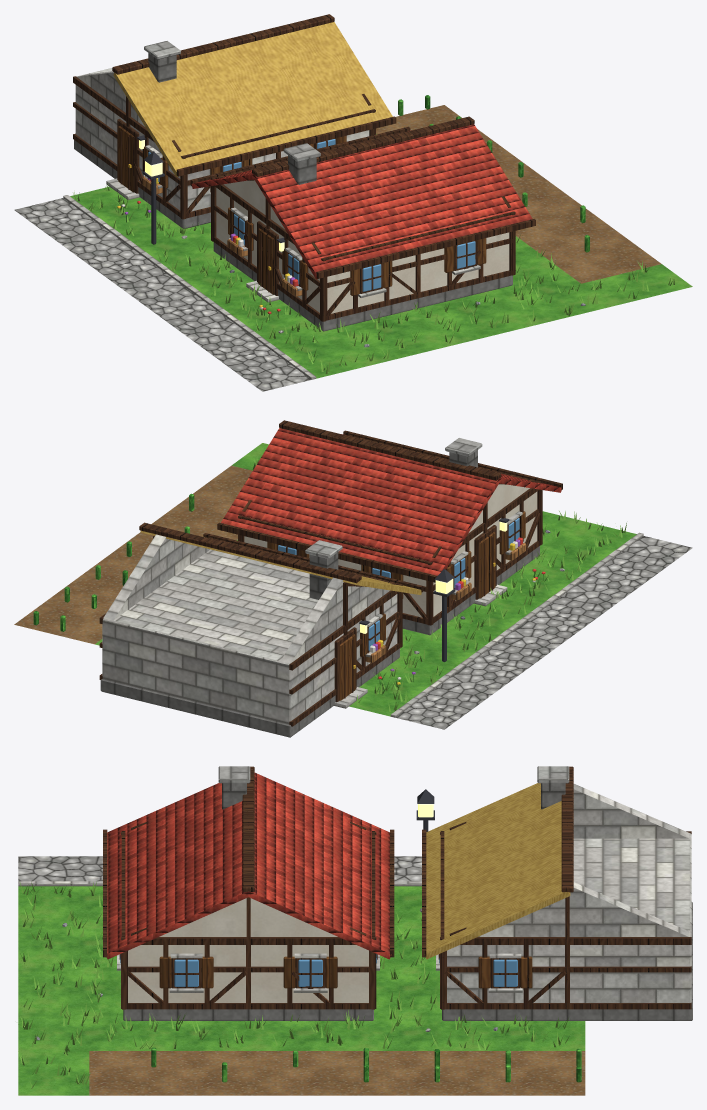
Rendered from chunk_2_10.glb.
The picture shows the model from 3 angles, top to bottom: view 1: azimuth 30°, elevation 25°; view 2: azimuth 150°, elevation 25°; view 3: azimuth 270°, elevation 25°; orthographic projection. The views are drawn at different scales.
Visible parts, largest first — view 1: chunk_2_10; view 2: chunk_2_10; view 3: chunk_2_10.
Part boxes in pixels (x1=…): chunk_2_10: x1=14, y1=14, x2=692, y2=391; chunk_2_10: x1=14, y1=420, x2=692, y2=737; chunk_2_10: x1=18, y1=766, x2=692, y2=1095.
Size of the model in its own units: 16 by 4.99 by 19.16.
Materials: 25 (16 with a texture image).
